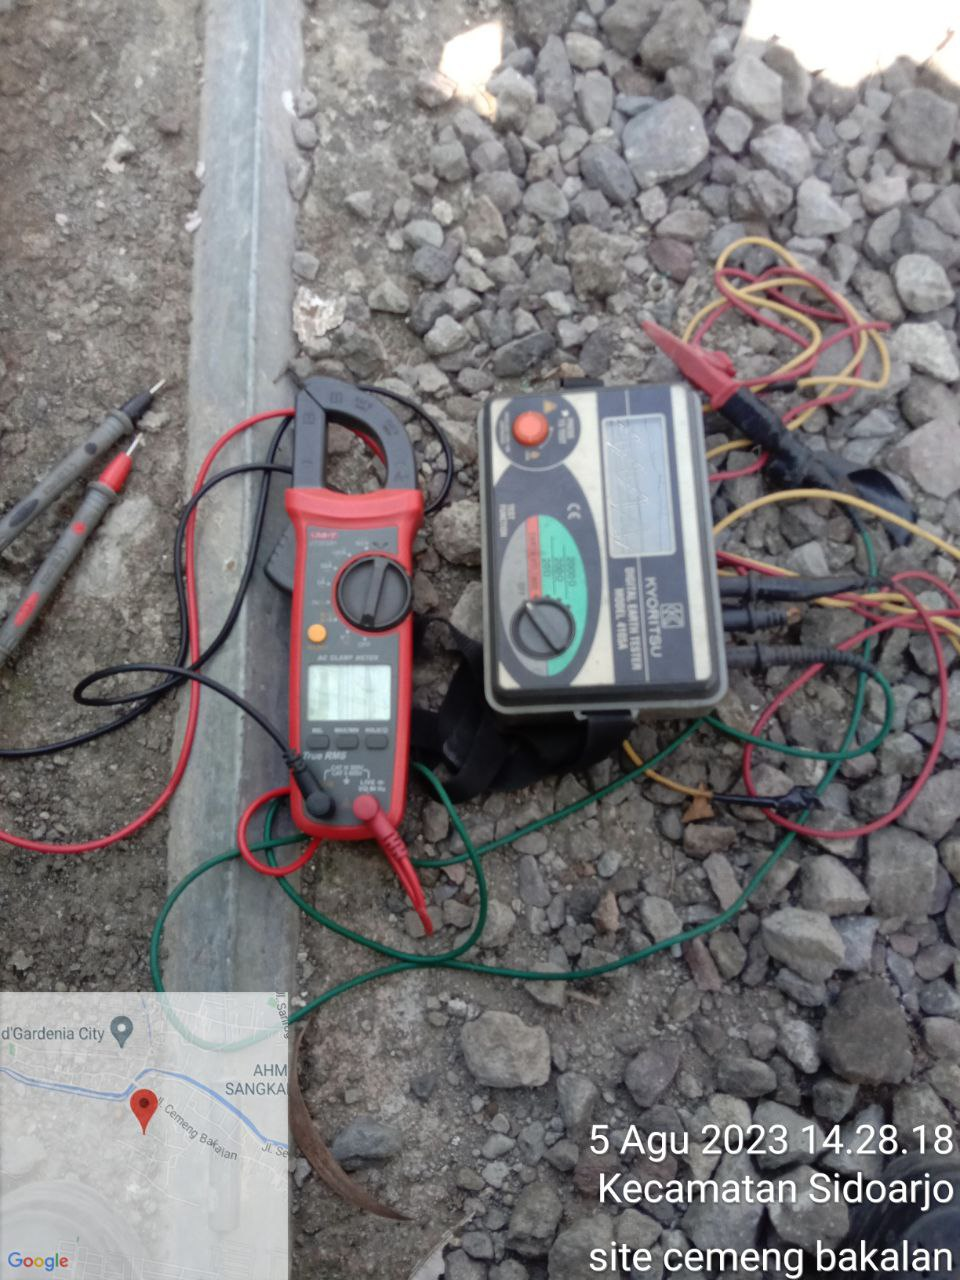EARTH_GROUNDING_TESTER: (477, 378, 729, 715)
TANG_AMPERE: (261, 365, 428, 841)
